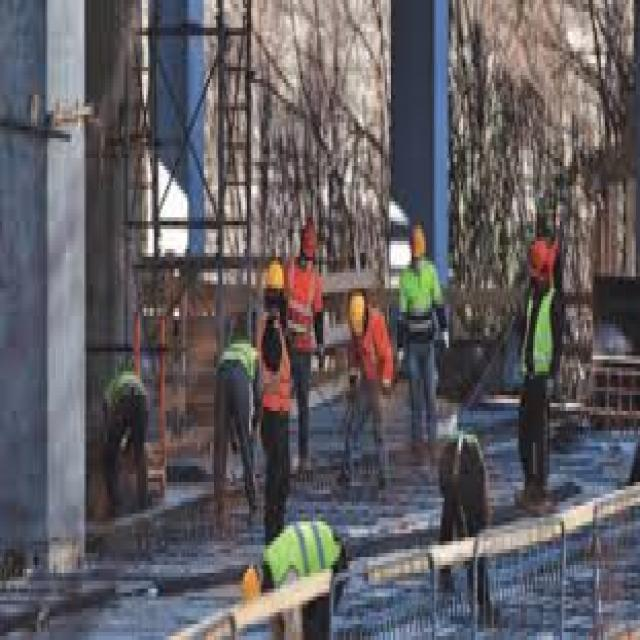Reflective-Jacket: (393, 256, 447, 356), (516, 285, 564, 391), (253, 308, 294, 423), (286, 257, 325, 363), (214, 332, 261, 387)
Safety-Helmet: (522, 233, 558, 285), (259, 249, 290, 308), (343, 280, 372, 340), (294, 213, 323, 265), (406, 213, 432, 269)
